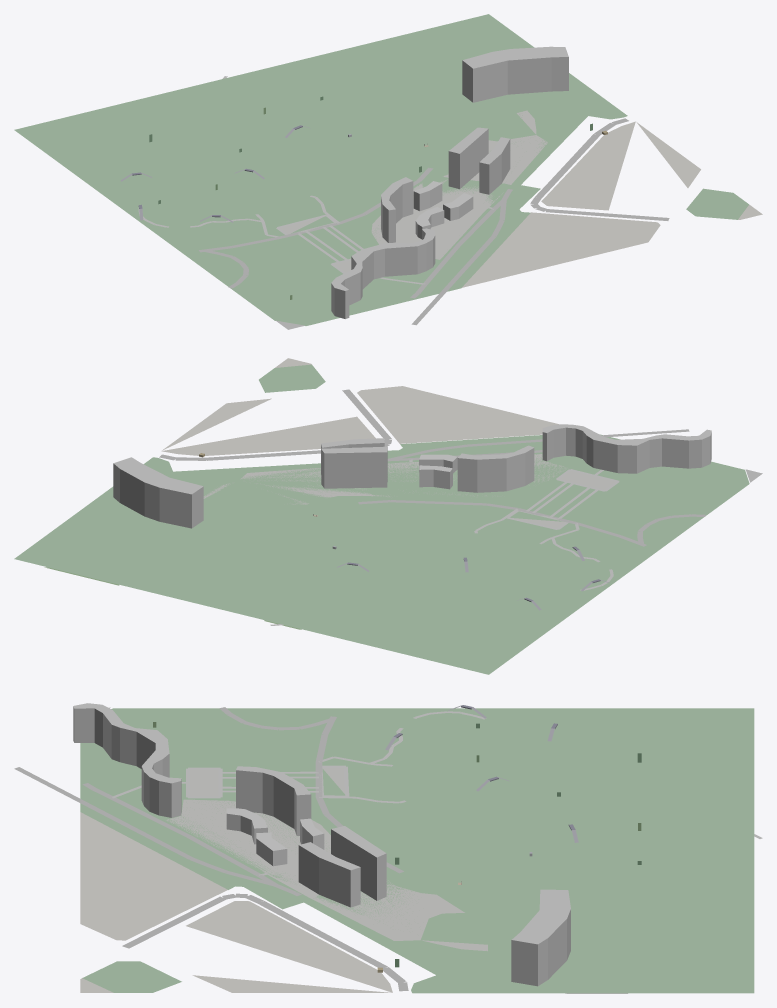
3 views of the same model, one above another, from view 1: azimuth 30°, elevation 25°; view 2: azimuth 150°, elevation 25°; view 3: azimuth 270°, elevation 25° (orthographic). The views are drawn at different scales.
Size of the model in its own units: 501 by 36.6 by 556.
